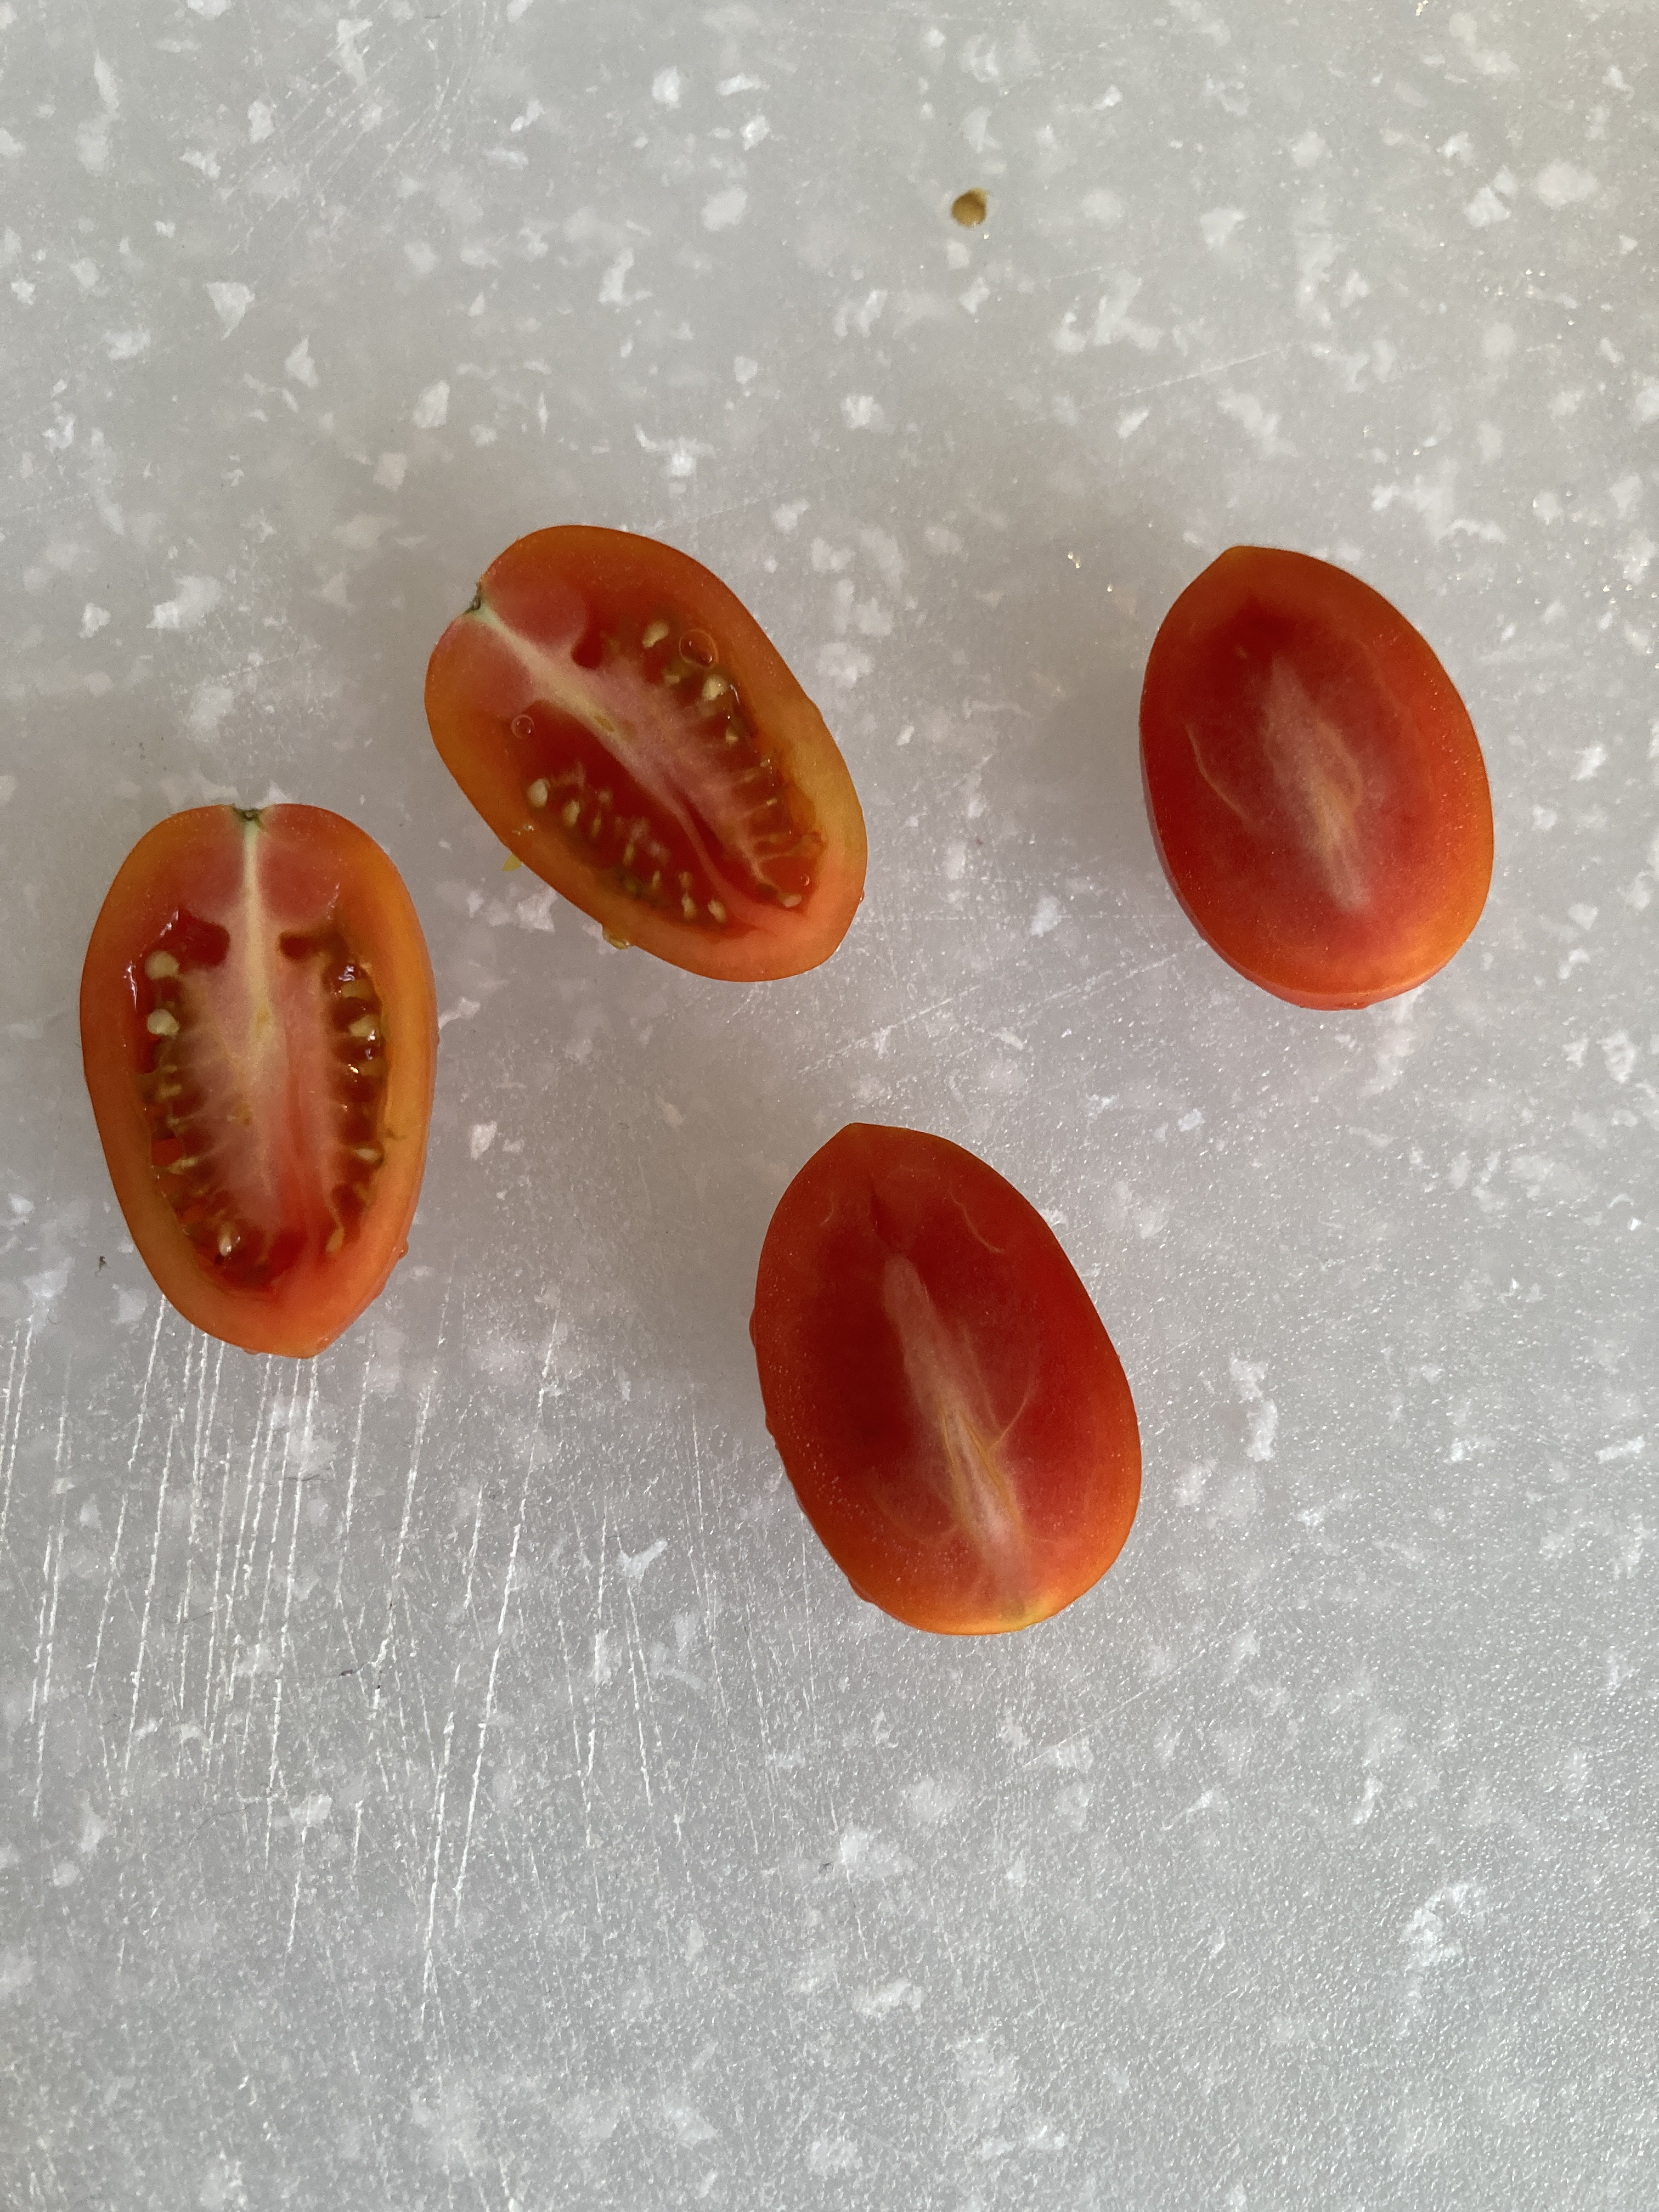healthy-tomato: (744, 1118, 1147, 1637), (422, 523, 871, 981), (71, 798, 434, 1357), (1131, 543, 1495, 1007)
